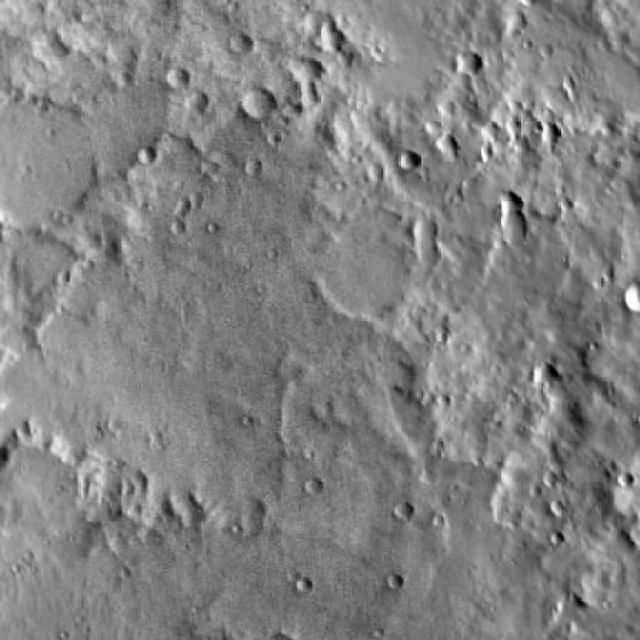crater: (0, 100, 108, 238), (309, 225, 416, 322), (240, 84, 274, 116), (497, 216, 528, 244), (139, 0, 175, 22), (411, 250, 440, 276), (289, 57, 317, 81), (620, 278, 640, 311), (180, 88, 206, 112), (496, 197, 522, 220), (320, 36, 345, 58), (455, 52, 480, 74), (224, 33, 248, 55), (412, 228, 436, 248), (537, 128, 560, 148), (166, 68, 188, 88), (435, 134, 457, 154), (507, 17, 533, 32), (398, 152, 418, 171), (310, 20, 330, 38), (306, 478, 325, 496), (291, 577, 311, 594), (261, 146, 279, 163), (135, 148, 154, 164), (496, 112, 513, 128), (316, 68, 332, 84), (396, 501, 412, 516)
